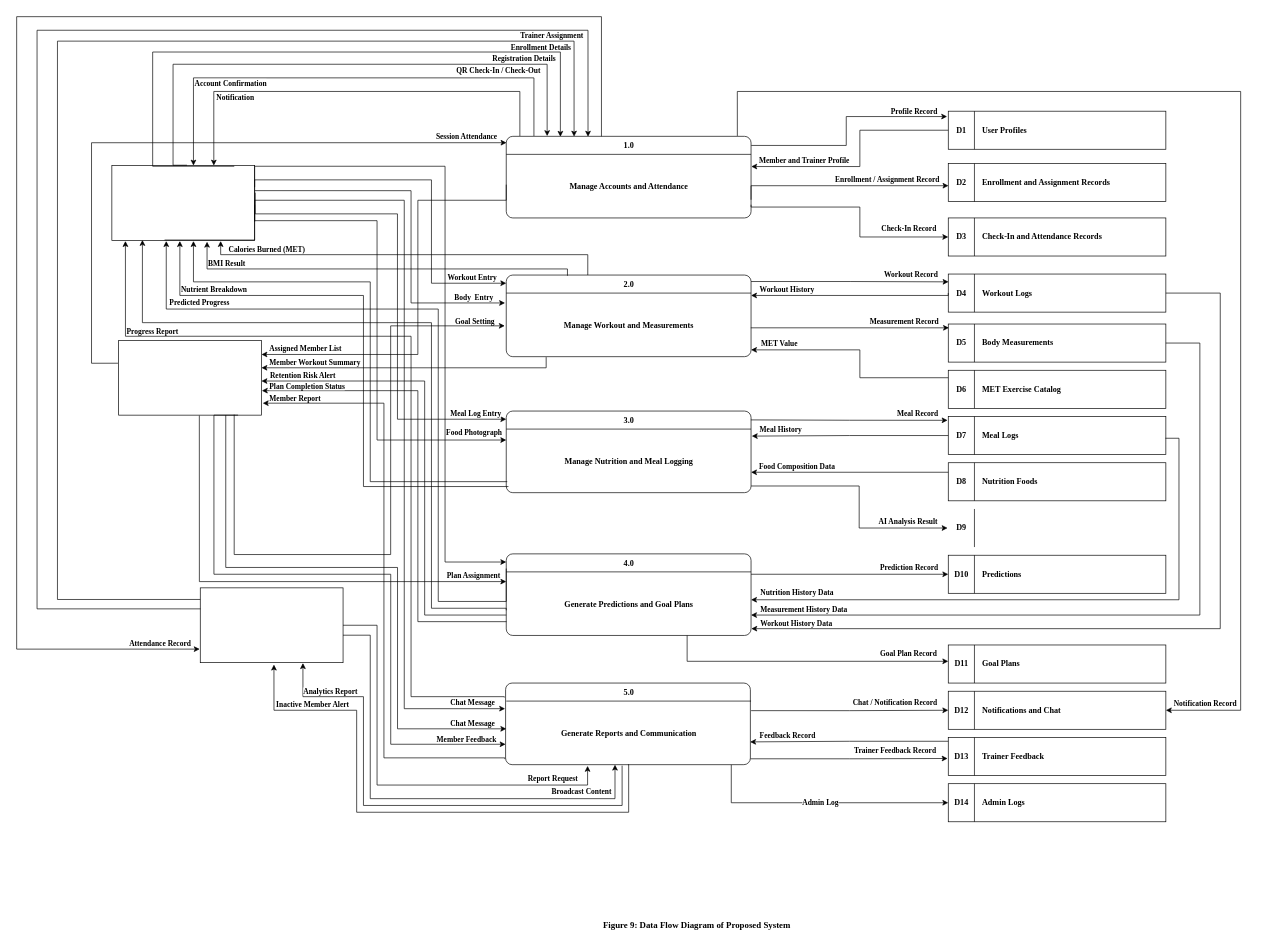
The diagram is 1273 pixels wide and 947 high, and some of its shapes have lost their labels. The centre of each missing label's shape, as x and y in pixels:
"ADMIN" belongs at point (271, 625).
"MEMBER" belongs at point (183, 202).
"TRAINER" belongs at point (189, 377).
